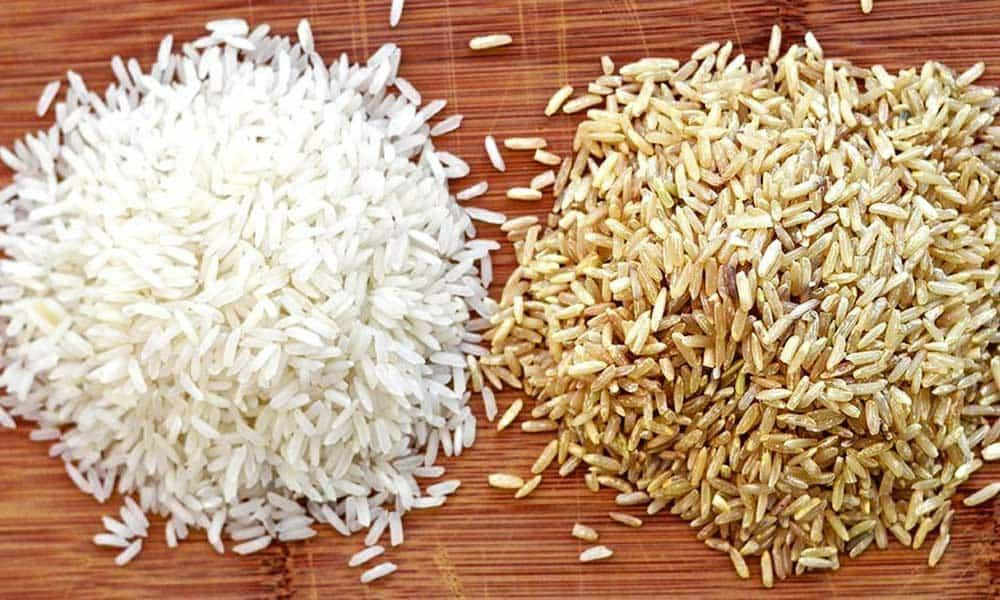WhiteRice: (1, 6, 477, 586)
